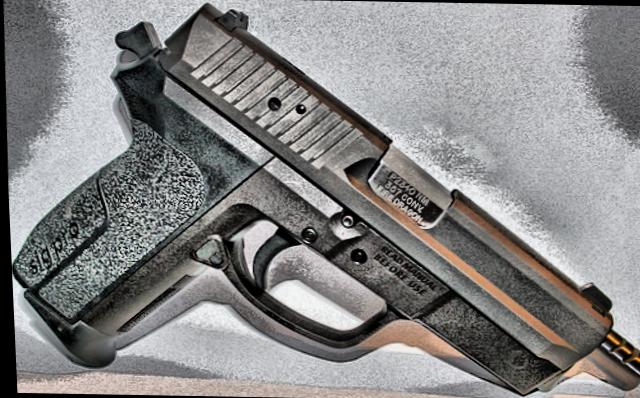pistol: (0, 0, 640, 393)
